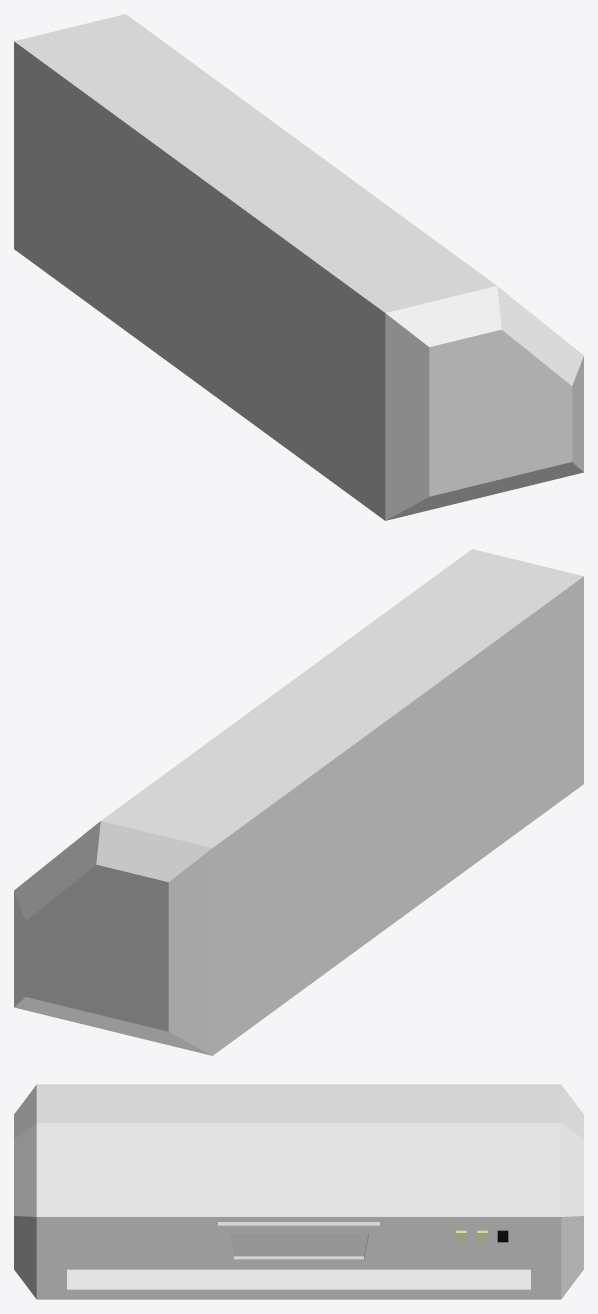
Rendered from air_conditioner_a.fbx.
3 renders of one model, top to bottom at view 1: azimuth 30°, elevation 25°; view 2: azimuth 150°, elevation 25°; view 3: azimuth 270°, elevation 25°, orthographic. The views are drawn at different scales.
Parts seen in each view (by area): view 1: air_conditioner_a; view 2: air_conditioner_a; view 3: air_conditioner_a.
Part boxes in pixels (<box>): air_conditioner_a: <box>14,14,583,520</box>; air_conditioner_a: <box>14,549,583,1055</box>; air_conditioner_a: <box>14,1084,583,1299</box>.
Size of the model in its own units: 0.528 by 0.5 by 1.76.
